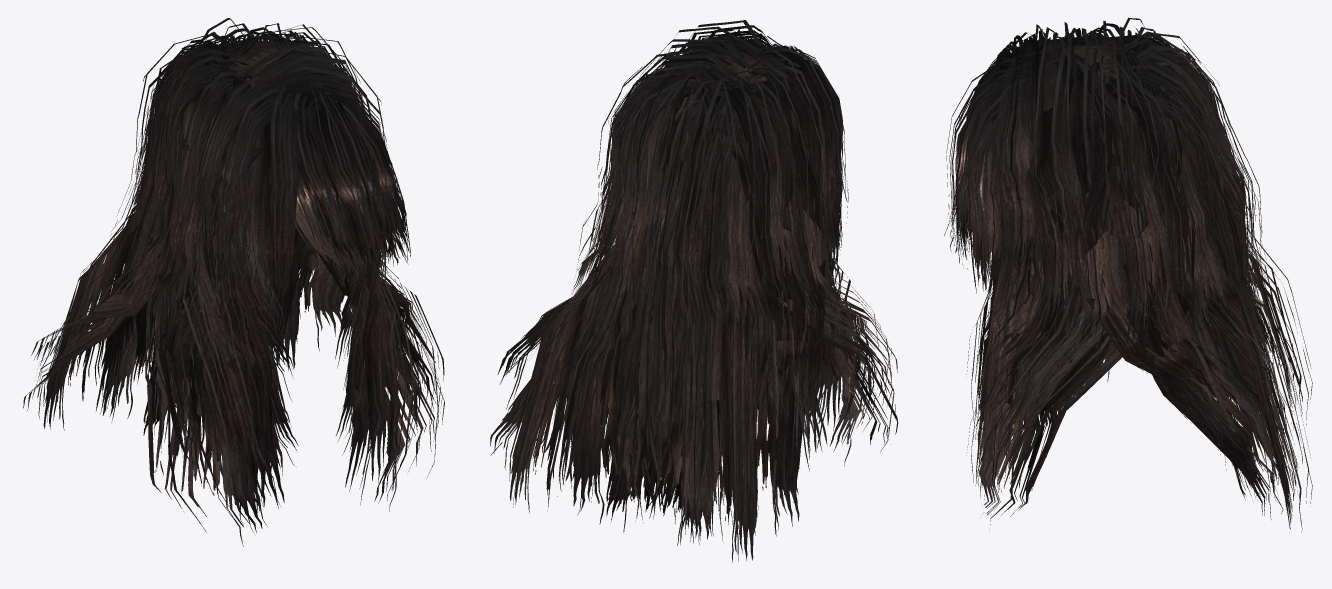
Rendered from mh_punkduck_alpha7_long2.glb.
The picture shows the model from 3 angles, left to right: view 1: azimuth 30°, elevation 25°; view 2: azimuth 150°, elevation 25°; view 3: azimuth 270°, elevation 25°; orthographic projection. The views are drawn at different scales.
Visible parts, largest first — view 1: mh_punkduck_alpha7_long2; view 2: mh_punkduck_alpha7_long2; view 3: mh_punkduck_alpha7_long2.
Boxes of the visible parts, x1,y1,x2,y2 form: mh_punkduck_alpha7_long2: [23, 18, 444, 546]; mh_punkduck_alpha7_long2: [490, 20, 898, 562]; mh_punkduck_alpha7_long2: [944, 17, 1312, 531].
Bounding box in the file's own units: 0.4391 × 0.5594 × 0.3946.
1 material, 1 textured.
